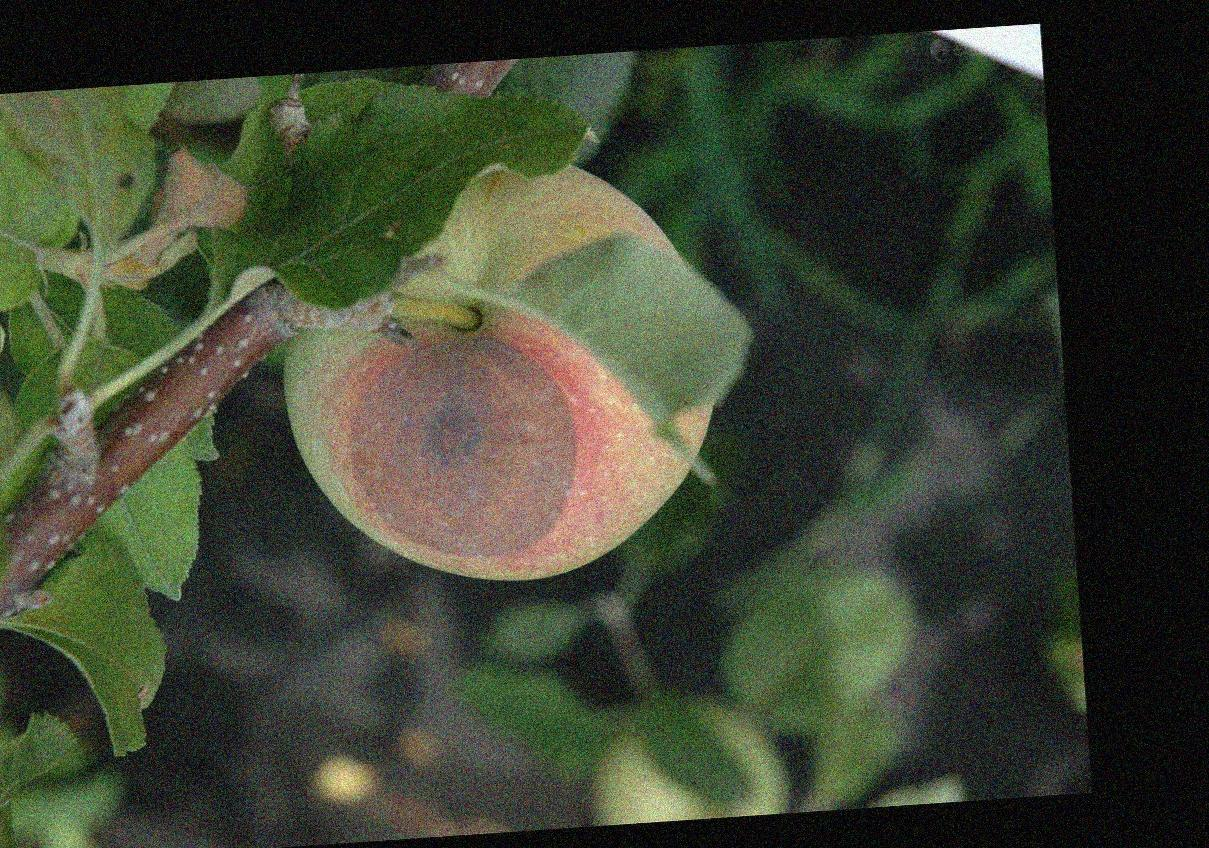rotten apple: (279, 153, 716, 586)
